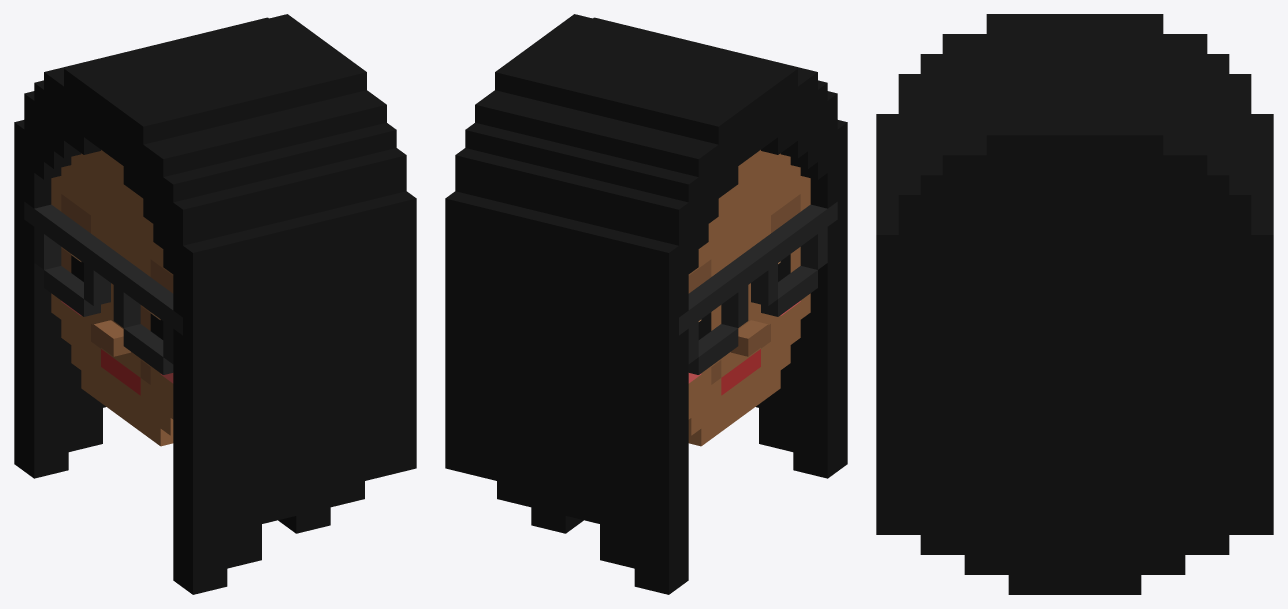
File: Voxel Universe-7-Face.obj
The picture shows the model from 3 angles, left to right: view 1: azimuth 30°, elevation 25°; view 2: azimuth 150°, elevation 25°; view 3: azimuth 270°, elevation 25°; orthographic projection. The views are drawn at different scales.
Parts seen in each view (by area): view 1: Face; view 2: Face; view 3: Face.
Boxes of the visible parts, box(x1,y1,x2,y2) form: Face: box(14, 14, 416, 594); Face: box(445, 14, 847, 594); Face: box(876, 14, 1273, 594).
Bounding box in the file's own units: 1.3 × 2.4 × 1.8.
Materials: 1 (1 with a texture image).
